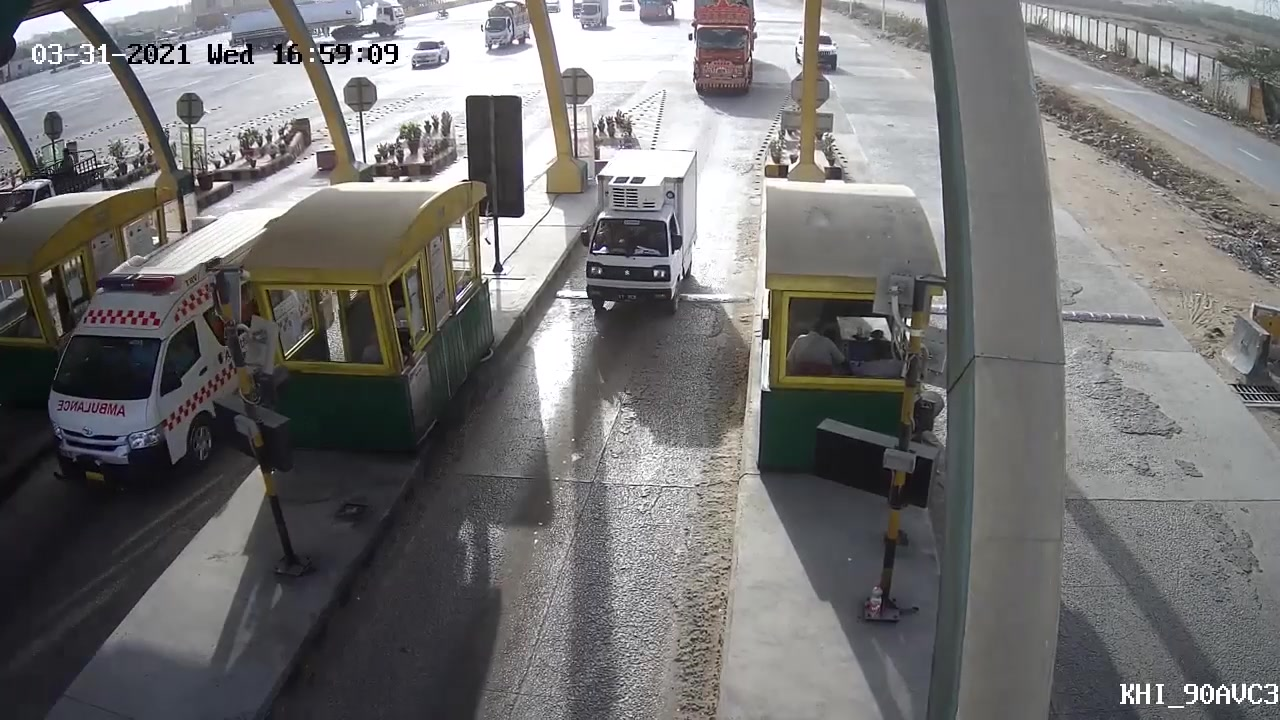F1: (569, 149, 703, 316)
F5: (676, 1, 764, 101)
